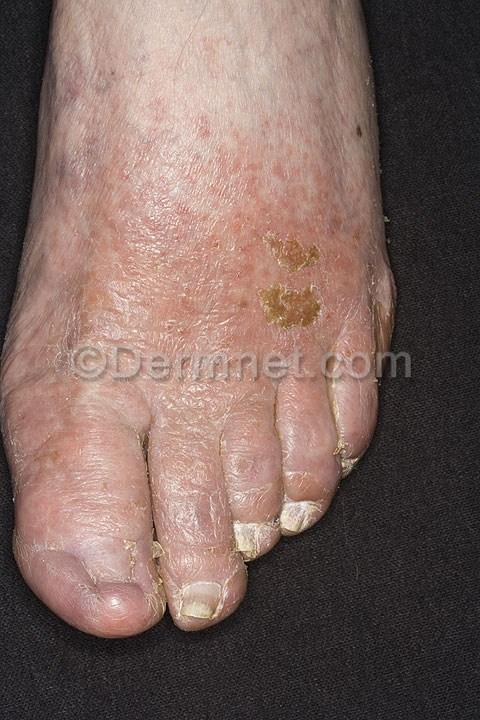Eczema: (61, 520, 242, 642), (236, 265, 337, 359), (257, 229, 336, 281)
